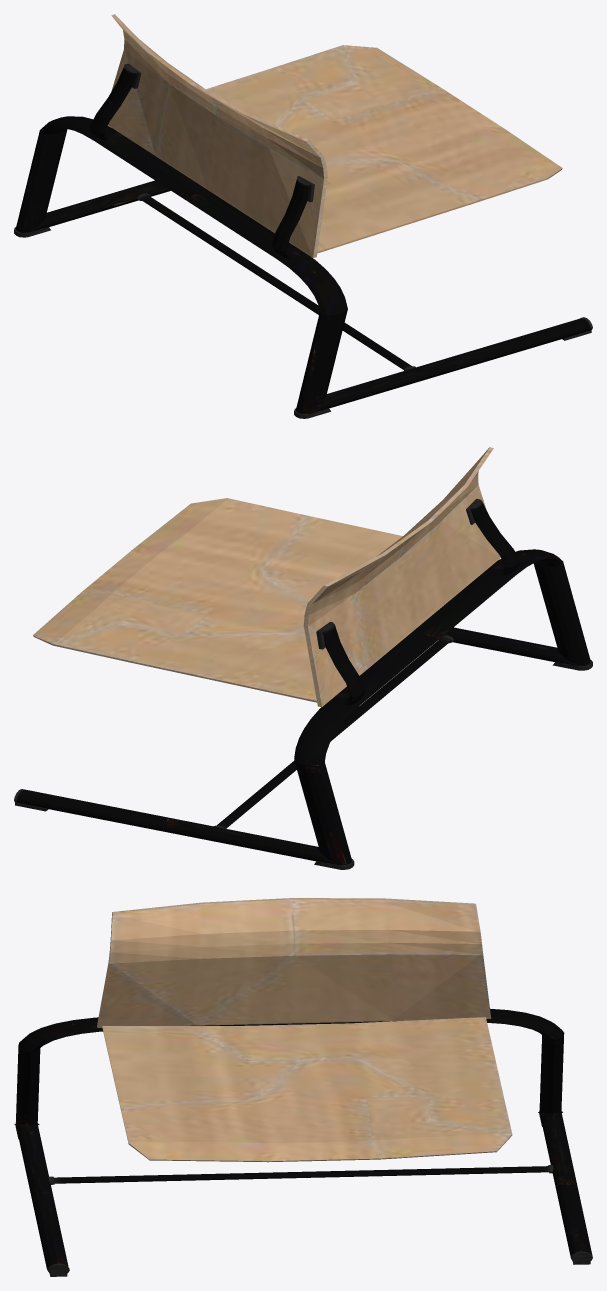
The model's file is chair_17.glb.
The picture shows the model from 3 angles, top to bottom: view 1: azimuth 30°, elevation 25°; view 2: azimuth 150°, elevation 25°; view 3: azimuth 270°, elevation 25°; orthographic projection. The views are drawn at different scales.
Visible parts, largest first — view 1: chair_17; view 2: chair_17; view 3: chair_17.
Boxes of the visible parts, x1=… form: chair_17: x1=14, y1=14, x2=592, y2=418; chair_17: x1=14, y1=447, x2=592, y2=869; chair_17: x1=14, y1=898, x2=592, y2=1276.
Size of the model in its own units: 2.97 by 1.87 by 4.14.
Materials: 1 (1 with a texture image).
